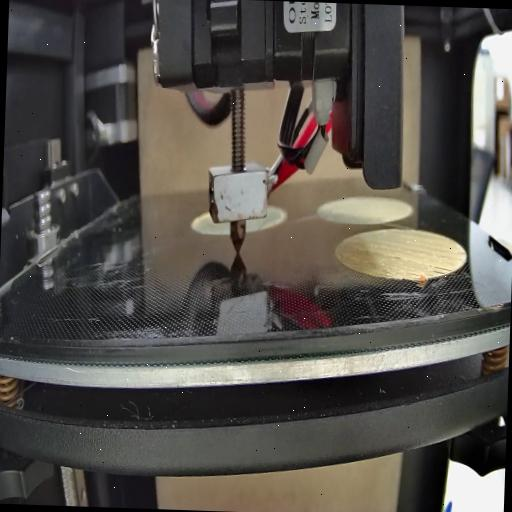under_extrusion: (424, 264, 450, 280), (402, 268, 420, 282), (453, 244, 467, 258), (388, 254, 403, 262)
